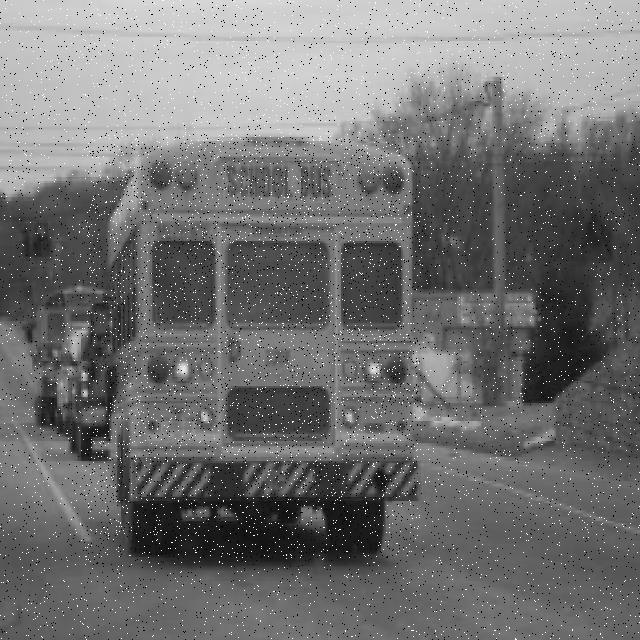Bus- Small: (87, 134, 421, 558)
